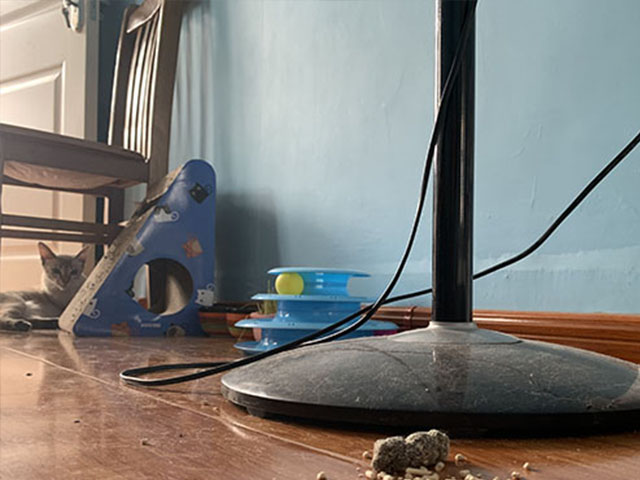feces: (369, 427, 450, 472)
stool: (1, 1, 194, 313)
wire: (474, 132, 640, 286), (120, 300, 383, 386), (386, 100, 442, 298)
